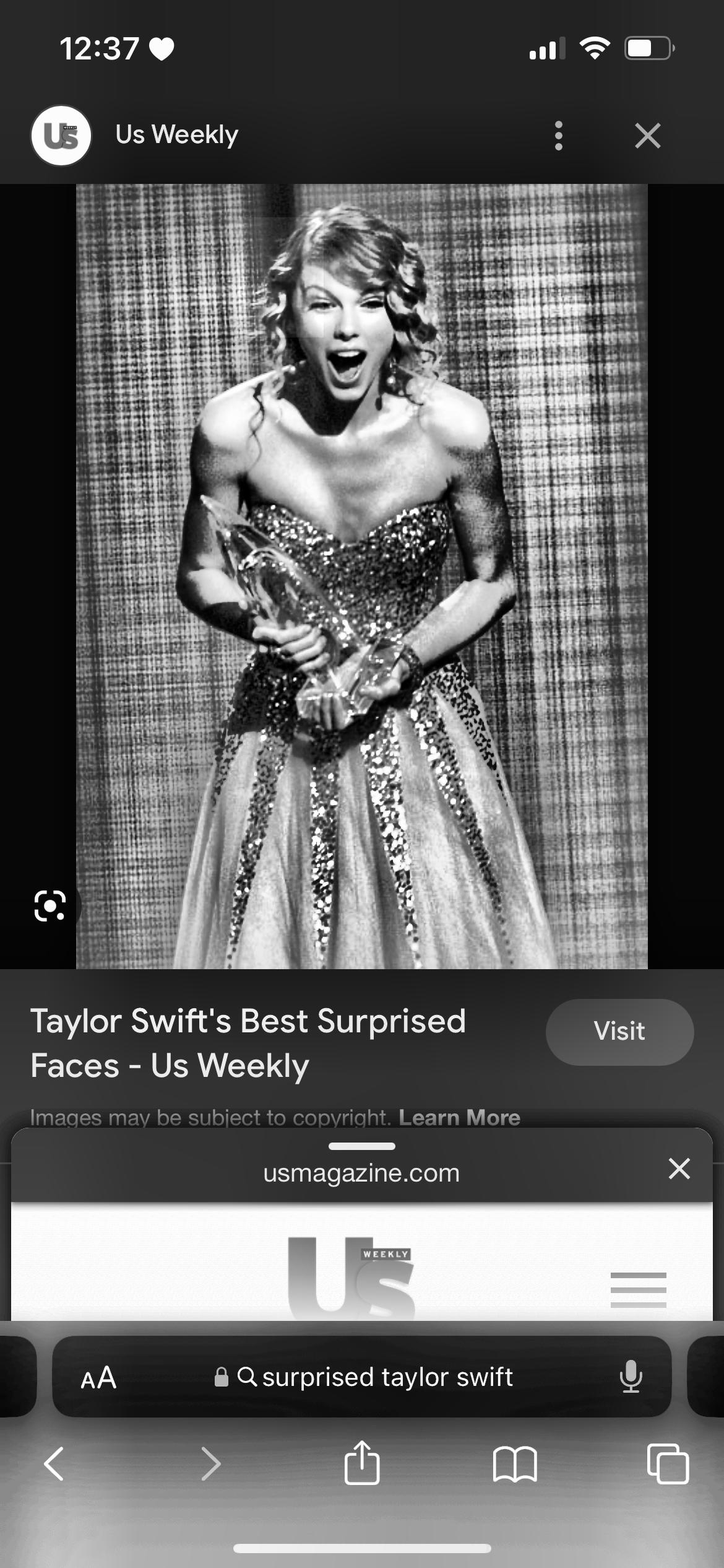surprised: (293, 269, 400, 417)
